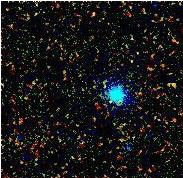star: (110, 129, 140, 159)
